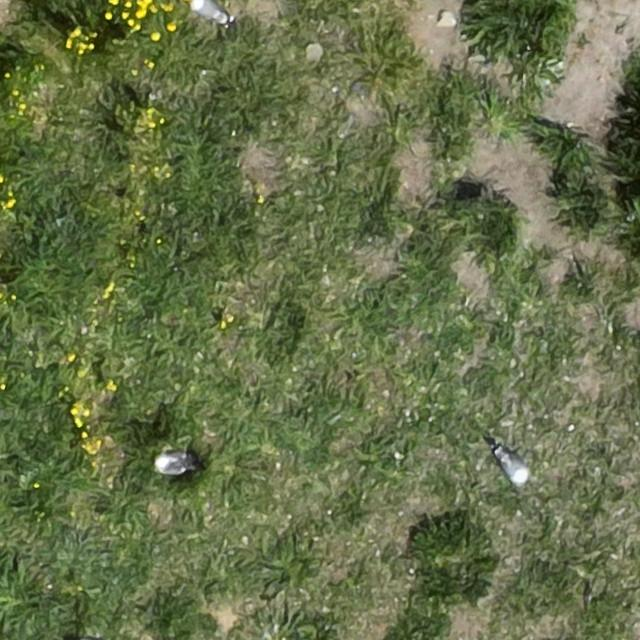umineko: (500, 454, 528, 486), (190, 1, 224, 23), (156, 454, 184, 474)
